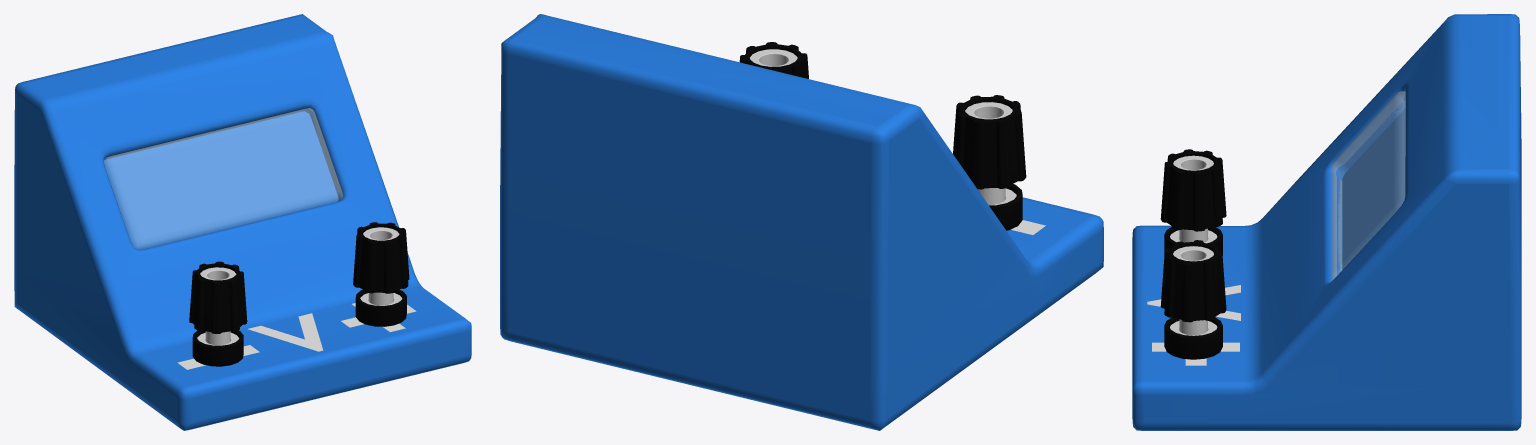
File: Voltmeter.fbx
3 views of the same model, side by side, from view 1: azimuth 30°, elevation 25°; view 2: azimuth 150°, elevation 25°; view 3: azimuth 270°, elevation 25° (orthographic). The views are drawn at different scales.
Visible parts, largest first — view 1: Resistor.014, Cylinder.094, Cylinder.093, Text.003; view 2: Resistor.014, Cylinder.094, Cylinder.093; view 3: Resistor.014, Cylinder.094, Cylinder.093, Text.005, Text.003.
Boxes of the visible parts, left/top/right/bottom form: Resistor.014: left=14, top=14, right=471, bottom=430; Cylinder.094: left=189, top=222, right=409, bottom=345; Cylinder.093: left=192, top=289, right=406, bottom=366; Text.003: left=247, top=313, right=323, bottom=351; Resistor.014: left=500, top=14, right=1103, bottom=430; Cylinder.094: left=739, top=42, right=1026, bottom=204; Cylinder.093: left=989, top=184, right=1022, bottom=230; Resistor.014: left=1132, top=14, right=1521, bottom=430; Cylinder.094: left=1160, top=149, right=1226, bottom=335; Cylinder.093: left=1164, top=226, right=1222, bottom=359; Text.005: left=1152, top=342, right=1239, bottom=365; Text.003: left=1147, top=285, right=1240, bottom=320.
Size of the model in its own units: 172 by 128 by 174.
